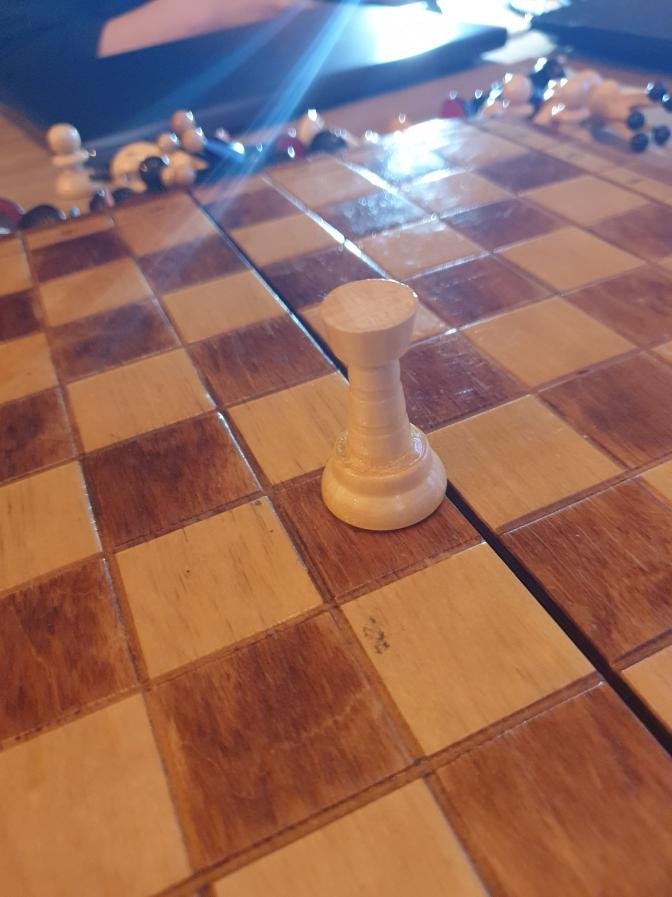wrook: (314, 278, 449, 534)
